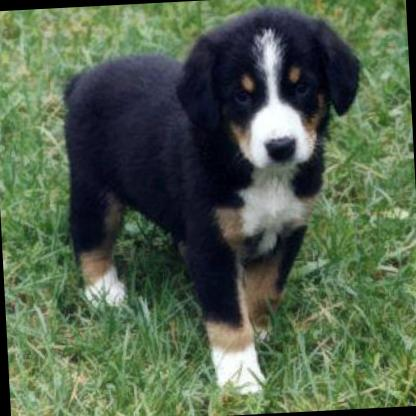EntleBucher: (55, 1, 377, 403)
